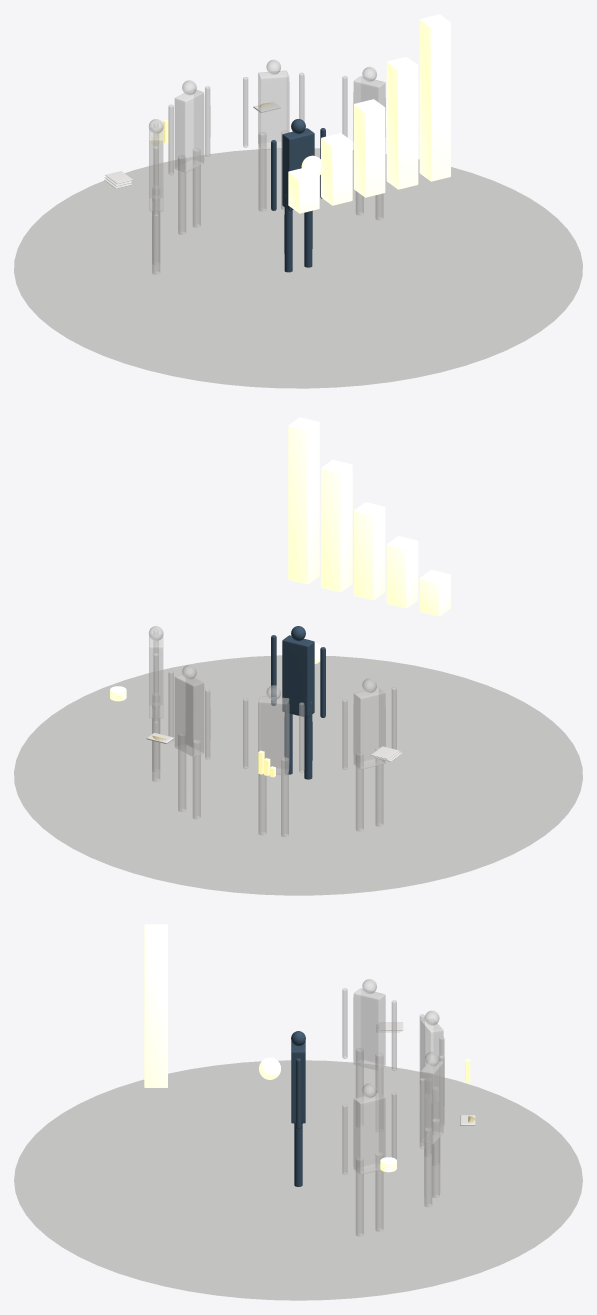
The model's file is hero_scene.glb.
3 renders of one model, top to bottom at view 1: azimuth 30°, elevation 25°; view 2: azimuth 150°, elevation 25°; view 3: azimuth 270°, elevation 25°, orthographic.
Visible parts, largest first — view 1: Ground, Bar_05, Bar_04, Bar_03, Clone_02_Torso, Clone_03_Torso, Bar_02, Figure_Main_Torso, Bar_01, Clone_01_Torso, Clone_04_Torso, Clone_03_LegL (+5 smaller); view 2: Ground, Bar_05, Bar_04, Bar_03, Figure_Main_Torso, Clone_01_Torso, Clone_03_Torso, Clone_02_Torso, Bar_02, Bar_01, Clone_04_Torso, Clone_01_LegR (+5 smaller); view 3: Ground, Bar_05, Clone_01_Torso, Clone_04_Torso, Clone_03_Torso, Clone_02_Torso, Figure_Main_Torso, Clone_04_LegR, Clone_03_LegL, Clone_01_LegR, Clone_03_LegR, Clone_04_LegL (+3 smaller).
Boxes of the visible parts, x1=… form: Ground: x1=14, y1=148, x2=582, y2=388; Bar_05: x1=419, y1=14, x2=450, y2=181; Bar_04: x1=386, y1=57, x2=418, y2=189; Bar_03: x1=354, y1=99, x2=385, y2=197; Clone_02_Torso: x1=174, y1=89, x2=204, y2=172; Clone_03_Torso: x1=258, y1=70, x2=289, y2=149; Bar_02: x1=321, y1=133, x2=352, y2=205; Figure_Main_Torso: x1=282, y1=128, x2=314, y2=210; Bar_01: x1=288, y1=167, x2=319, y2=213; Clone_01_Torso: x1=149, y1=128, x2=163, y2=211; Clone_04_Torso: x1=353, y1=76, x2=385, y2=152; Clone_03_LegL: x1=258, y1=132, x2=266, y2=211; Ground: x1=14, y1=655, x2=582, y2=895; Bar_05: x1=288, y1=417, x2=319, y2=584; Bar_04: x1=321, y1=459, x2=352, y2=592; Bar_03: x1=354, y1=502, x2=385, y2=600; Figure_Main_Torso: x1=282, y1=635, x2=314, y2=717; Clone_01_Torso: x1=353, y1=687, x2=385, y2=769; Clone_03_Torso: x1=174, y1=673, x2=204, y2=757; Clone_02_Torso: x1=258, y1=696, x2=289, y2=775; Bar_02: x1=386, y1=536, x2=418, y2=608; Bar_01: x1=419, y1=569, x2=450, y2=616; Clone_04_Torso: x1=149, y1=635, x2=163, y2=718; Clone_01_LegR: x1=355, y1=752, x2=363, y2=831; Ground: x1=14, y1=1060, x2=582, y2=1300; Bar_05: x1=144, y1=924, x2=167, y2=1087; Clone_01_Torso: x1=353, y1=988, x2=385, y2=1070; Clone_04_Torso: x1=353, y1=1092, x2=385, y2=1174; Clone_03_Torso: x1=420, y1=1060, x2=443, y2=1144; Clone_02_Torso: x1=420, y1=1019, x2=443, y2=1102; Figure_Main_Torso: x1=291, y1=1041, x2=305, y2=1123; Clone_04_LegR: x1=355, y1=1157, x2=363, y2=1236; Clone_03_LegL: x1=432, y1=1118, x2=440, y2=1197; Clone_01_LegR: x1=375, y1=1053, x2=383, y2=1129; Clone_03_LegR: x1=424, y1=1127, x2=432, y2=1206; Clone_04_LegL: x1=375, y1=1152, x2=383, y2=1231.
Size of the model in its own units: 6 by 3.34 by 6.
